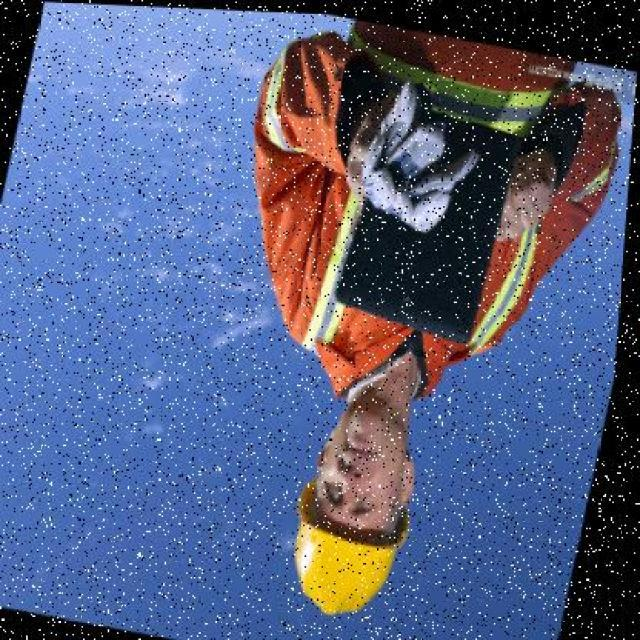helmet: (279, 494, 420, 624)
